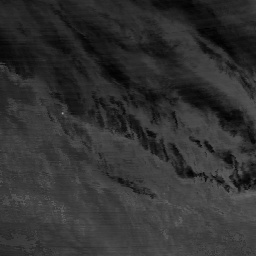Target: (60, 110, 65, 115)
